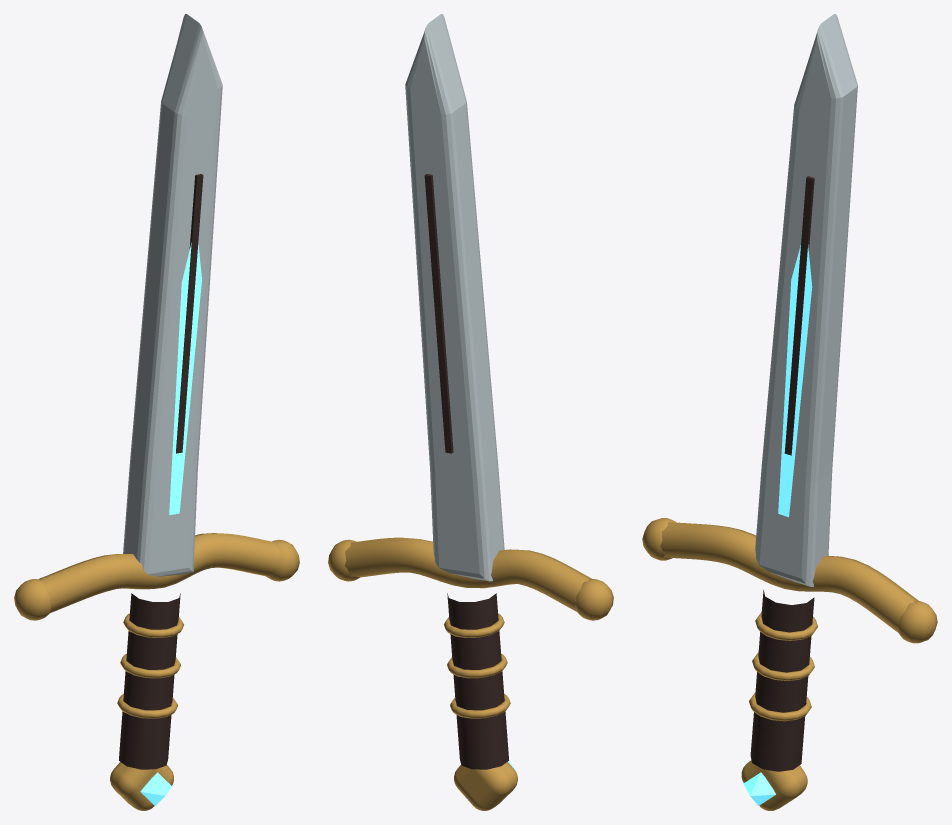
File: weapon_katana.glb
The picture shows the model from 3 angles, left to right: view 1: azimuth 30°, elevation 25°; view 2: azimuth 150°, elevation 25°; view 3: azimuth 330°, elevation 25°; orthographic projection. The views are drawn at different scales.
Parts seen in each view (by area): view 1: blade_mesh, weapon_grip, weapon_guard, weapon_rune, weapon_fuller_1, weapon_pommel, weapon_guard_cap_-1, weapon_guard_cap_1, weapon_trim_wrap_1, weapon_trim_wrap_2, weapon_trim_wrap_0, weapon_rune_pommel; view 2: blade_mesh, weapon_guard, weapon_grip, weapon_fuller_-1, weapon_pommel, weapon_guard_cap_-1, weapon_guard_cap_1, weapon_trim_wrap_1, weapon_trim_wrap_2, weapon_trim_wrap_0; view 3: blade_mesh, weapon_guard, weapon_grip, weapon_rune, weapon_fuller_1, weapon_pommel, weapon_guard_cap_1, weapon_guard_cap_-1, weapon_trim_wrap_1, weapon_trim_wrap_2, weapon_trim_wrap_0, weapon_rune_pommel.
Part boxes in pixels (left/top/right/bottom): blade_mesh: left=123, top=14, right=222, bottom=576; weapon_grip: left=119, top=593, right=180, bottom=769; weapon_guard: left=38, top=533, right=280, bottom=613; weapon_rune: left=169, top=242, right=201, bottom=515; weapon_fuller_1: left=176, top=174, right=203, bottom=453; weapon_pommel: left=110, top=762, right=173, bottom=810; weapon_guard_cap_-1: left=14, top=579, right=51, bottom=620; weapon_guard_cap_1: left=265, top=539, right=299, bottom=581; weapon_trim_wrap_1: left=120, top=653, right=180, bottom=678; weapon_trim_wrap_2: left=117, top=694, right=177, bottom=718; weapon_trim_wrap_0: left=123, top=613, right=183, bottom=637; weapon_rune_pommel: left=140, top=772, right=172, bottom=805; blade_mesh: left=405, top=14, right=504, bottom=581; weapon_guard: left=345, top=537, right=591, bottom=611; weapon_grip: left=447, top=593, right=508, bottom=769; weapon_fuller_-1: left=424, top=174, right=453, bottom=453; weapon_pommel: left=454, top=762, right=517, bottom=810; weapon_guard_cap_-1: left=575, top=579, right=613, bottom=620; weapon_guard_cap_1: left=328, top=539, right=360, bottom=581; weapon_trim_wrap_1: left=447, top=653, right=507, bottom=678; weapon_trim_wrap_2: left=450, top=694, right=510, bottom=718; weapon_trim_wrap_0: left=444, top=613, right=504, bottom=637; blade_mesh: left=755, top=14, right=857, bottom=586; weapon_guard: left=660, top=522, right=918, bottom=632; weapon_grip: left=750, top=590, right=814, bottom=771; weapon_rune: left=778, top=244, right=812, bottom=517; weapon_fuller_1: left=784, top=176, right=814, bottom=455; weapon_pommel: left=741, top=760, right=807, bottom=810; weapon_guard_cap_1: left=897, top=600, right=937, bottom=643; weapon_guard_cap_-1: left=642, top=518, right=676, bottom=560; weapon_trim_wrap_1: left=752, top=652, right=814, bottom=680; weapon_trim_wrap_2: left=749, top=692, right=811, bottom=721; weapon_trim_wrap_0: left=755, top=612, right=817, bottom=640; weapon_rune_pommel: left=743, top=772, right=775, bottom=805.
Bounding box in the file's own units: 0.9609 × 2.54 × 0.2287.
